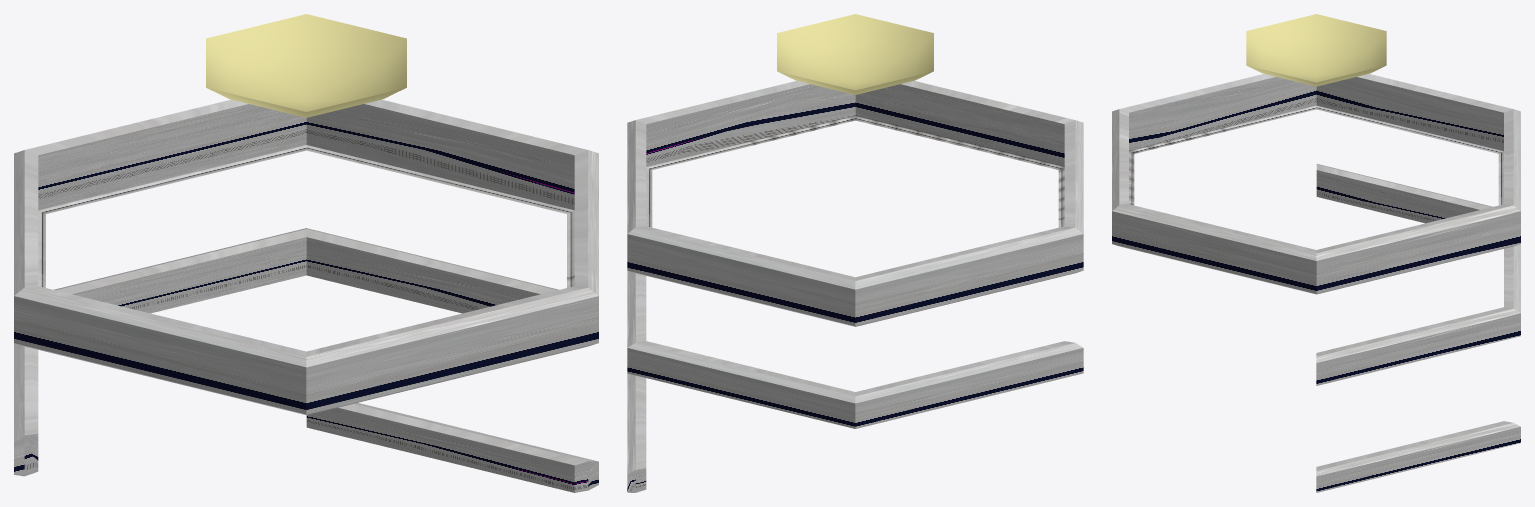
Rendered from Museum_Hex_Propeler_02_Art.fbx.
3 views of the same model, side by side, from view 1: azimuth 30°, elevation 25°; view 2: azimuth 150°, elevation 25°; view 3: azimuth 270°, elevation 25° (orthographic). The views are drawn at different scales.
Visible parts, largest first — view 1: Museum_Hex_Propeler_02, Museum_Hex_Propeler_02_Gear_2; view 2: Museum_Hex_Propeler_02, Museum_Hex_Propeler_02_Gear_2; view 3: Museum_Hex_Propeler_02, Museum_Hex_Propeler_02_Gear_2.
Part boxes in pixels (<box>): Museum_Hex_Propeler_02: <box>14,14,598,476</box>; Museum_Hex_Propeler_02_Gear_2: <box>306,403,598,492</box>; Museum_Hex_Propeler_02: <box>627,14,1083,428</box>; Museum_Hex_Propeler_02_Gear_2: <box>627,373,646,492</box>; Museum_Hex_Propeler_02: <box>1112,14,1520,385</box>; Museum_Hex_Propeler_02_Gear_2: <box>1316,421,1520,492</box>.
Size of the model in its own units: 1407 by 1141 by 1218.
Materials: 2 (1 with a texture image).
